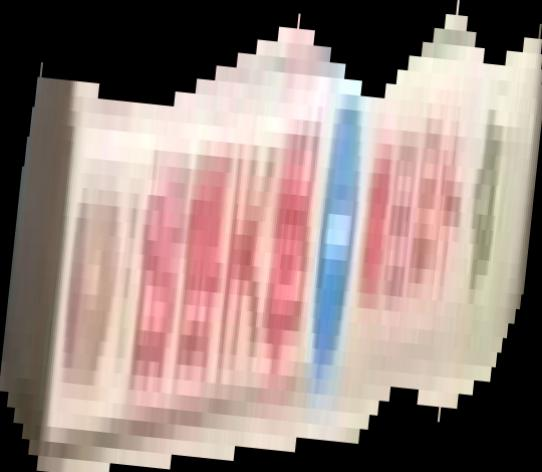flat: (1, 1, 542, 472)
